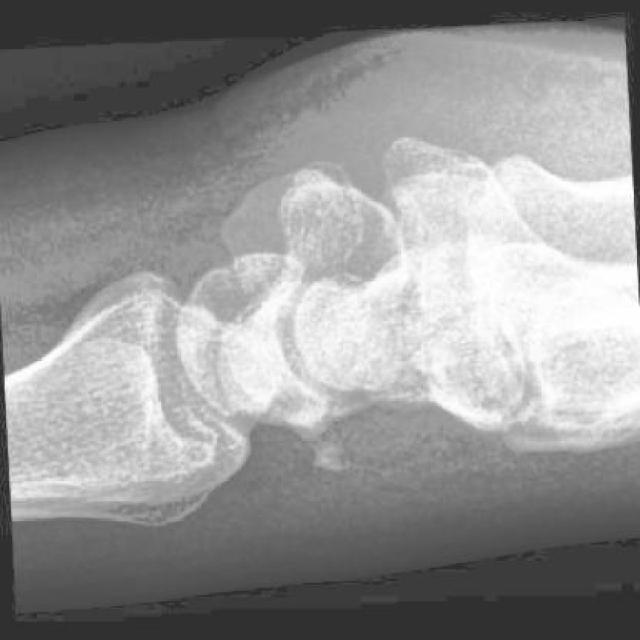Fracture: (288, 403, 362, 474)
